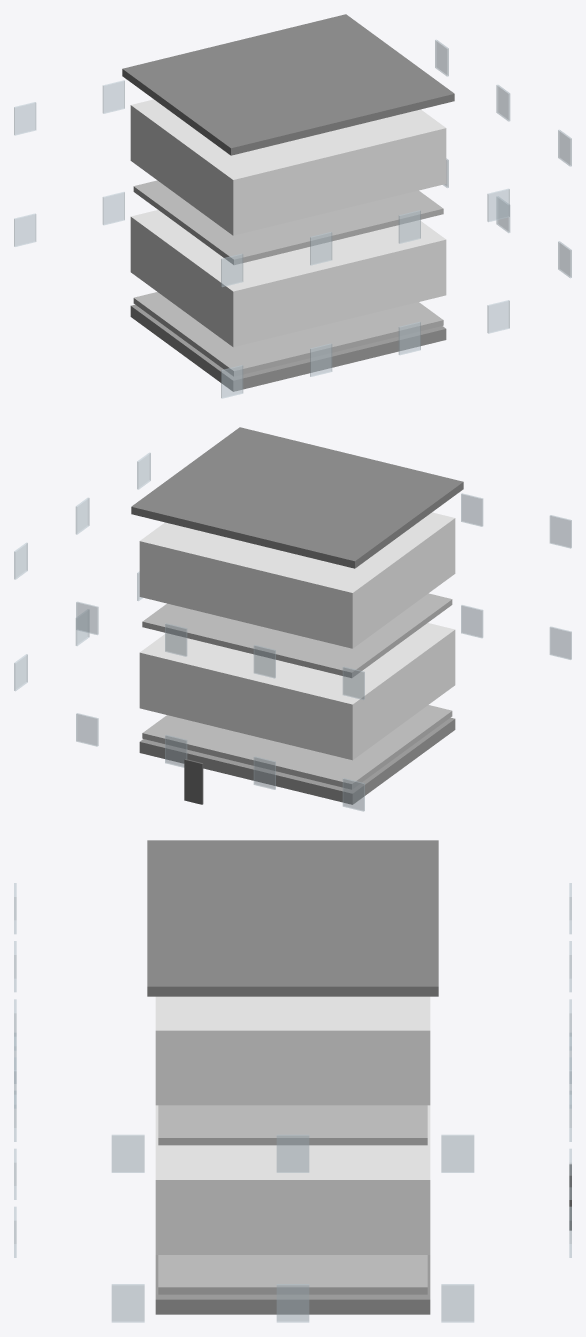
File: house_modern_2floor_12x10.glb
3 renders of one model, top to bottom at view 1: azimuth 30°, elevation 25°; view 2: azimuth 150°, elevation 25°; view 3: azimuth 270°, elevation 25°, orthographic. The views are drawn at different scales.
Visible parts, largest first — view 1: Roof_Flat, Floor1_Walls, Floor2_Walls, Slab_Floor0, Slab_Floor1, Foundation, Window_Back_F0_1, Window_Back_F1_0, Window_Back_F1_1, Window_Back_F0_0, Window_Back_F0_2, Window_Back_F1_2 (+6 smaller); view 2: Roof_Flat, Floor1_Walls, Floor2_Walls, Slab_Floor0, Slab_Floor1, Foundation, Door_Main, Window_Front_F0_1, Window_Front_F1_0, Window_Front_F1_1, Window_Front_F0_0, Window_Front_F1_2 (+7 smaller); view 3: Roof_Flat, Floor1_Walls, Floor2_Walls, Slab_Floor1, Slab_Floor0, Foundation, Window_Side_F0_0, Window_Side_F0_2, Window_Side_F0_1, Window_Side_F1_0, Window_Side_F1_1, Window_Side_F1_2.
Part boxes in pixels (x1=…): Roof_Flat: x1=122, y1=14, x2=454, y2=155; Floor1_Walls: x1=130, y1=210, x2=446, y2=347; Floor2_Walls: x1=130, y1=99, x2=446, y2=235; Slab_Floor0: x1=133, y1=292, x2=443, y2=376; Slab_Floor1: x1=133, y1=180, x2=443, y2=264; Foundation: x1=130, y1=304, x2=446, y2=391; Window_Back_F0_1: x1=310, y1=343, x2=332, y2=376; Window_Back_F1_0: x1=221, y1=253, x2=243, y2=286; Window_Back_F1_1: x1=310, y1=232, x2=332, y2=265; Window_Back_F0_0: x1=221, y1=365, x2=243, y2=398; Window_Back_F0_2: x1=398, y1=322, x2=420, y2=355; Window_Back_F1_2: x1=398, y1=210, x2=420, y2=243; Roof_Flat: x1=131, y1=427, x2=463, y2=568; Floor1_Walls: x1=139, y1=623, x2=455, y2=760; Floor2_Walls: x1=139, y1=512, x2=455, y2=648; Slab_Floor0: x1=142, y1=705, x2=452, y2=789; Slab_Floor1: x1=142, y1=593, x2=452, y2=677; Foundation: x1=139, y1=717, x2=455, y2=804; Door_Main: x1=184, y1=759, x2=203, y2=804; Window_Front_F0_1: x1=253, y1=756, x2=275, y2=789; Window_Front_F1_0: x1=342, y1=666, x2=364, y2=699; Window_Front_F1_1: x1=253, y1=645, x2=275, y2=678; Window_Front_F0_0: x1=342, y1=778, x2=364, y2=811; Window_Front_F1_2: x1=165, y1=623, x2=187, y2=656; Roof_Flat: x1=147, y1=840, x2=438, y2=996; Floor1_Walls: x1=155, y1=1105, x2=430, y2=1254; Floor2_Walls: x1=155, y1=996, x2=430, y2=1105; Slab_Floor1: x1=158, y1=1105, x2=427, y2=1145; Slab_Floor0: x1=158, y1=1255, x2=427, y2=1294; Foundation: x1=155, y1=1255, x2=430, y2=1314; Window_Side_F0_0: x1=111, y1=1284, x2=144, y2=1322; Window_Side_F0_2: x1=441, y1=1284, x2=474, y2=1322; Window_Side_F0_1: x1=276, y1=1284, x2=309, y2=1322; Window_Side_F1_0: x1=111, y1=1134, x2=144, y2=1172; Window_Side_F1_1: x1=276, y1=1134, x2=309, y2=1172; Window_Side_F1_2: x1=441, y1=1134, x2=474, y2=1172.
Bounding box in the file's own units: 10.88 × 6.65 × 10.15.
